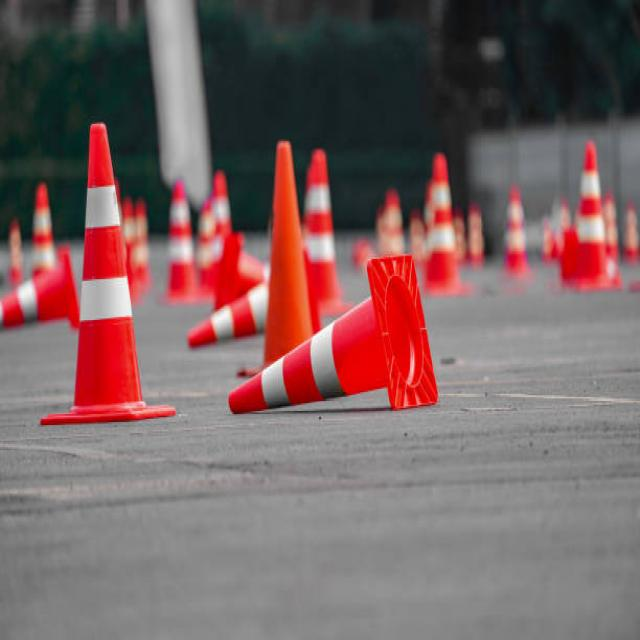Traffic Cone: (29, 77, 188, 448), (212, 244, 442, 420)
